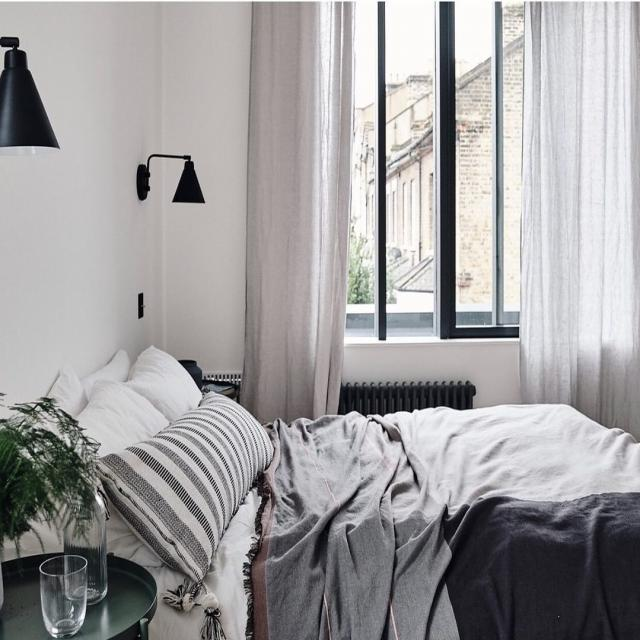bed: (47, 335, 640, 622)
